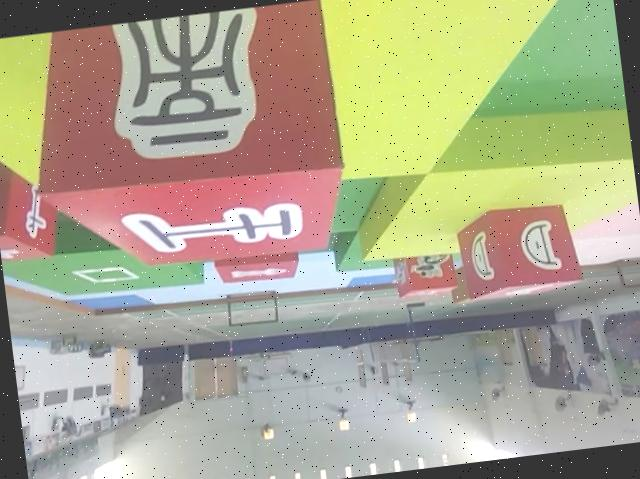R1: (389, 247, 454, 297)
R2 Fake: (14, 0, 351, 279)
R2 Real: (454, 200, 581, 299), (0, 150, 59, 268)
